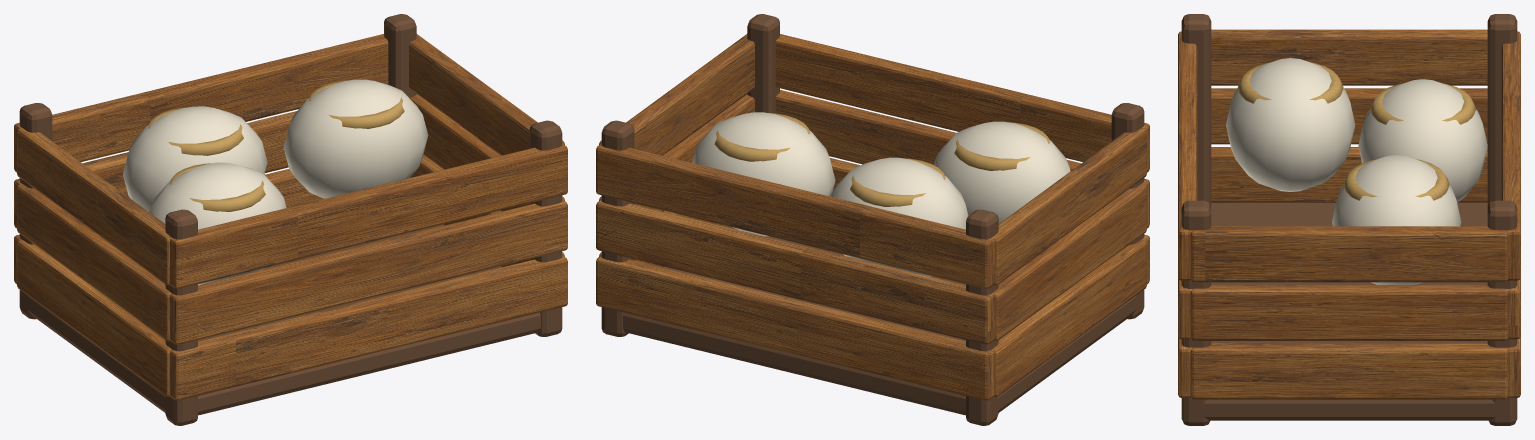
3 views of the same model, side by side, from view 1: azimuth 30°, elevation 25°; view 2: azimuth 150°, elevation 25°; view 3: azimuth 270°, elevation 25° (orthographic). The views are drawn at different scales.
Visible parts, largest first — view 1: workshop_bench, workshop_cream, workshop_wood_dark, workshop_brass; view 2: workshop_bench, workshop_cream, workshop_wood_dark, workshop_brass; view 3: workshop_bench, workshop_cream, workshop_wood_dark, workshop_brass.
Boxes of the visible parts, bbox=[...] form: workshop_bench: bbox=[14, 34, 567, 400]; workshop_cream: bbox=[123, 79, 428, 285]; workshop_wood_dark: bbox=[19, 14, 562, 425]; workshop_brass: bbox=[148, 80, 404, 211]; workshop_bench: bbox=[596, 34, 1149, 400]; workshop_cream: bbox=[692, 112, 1070, 276]; workshop_wood_dark: bbox=[601, 14, 1144, 425]; workshop_brass: bbox=[714, 113, 1049, 206]; workshop_bench: bbox=[1178, 29, 1520, 399]; workshop_cream: bbox=[1226, 58, 1487, 284]; workshop_wood_dark: bbox=[1181, 14, 1517, 425]; workshop_brass: bbox=[1237, 62, 1475, 200].
Bounding box in the file's own units: 1.64 × 0.82 × 1.17.
4 materials, 1 textured.
